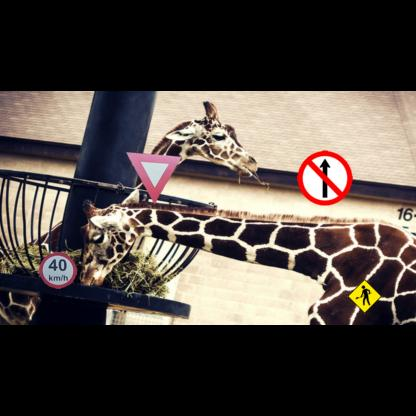A-24: (347, 279, 382, 314)
R-19: (39, 252, 77, 289)
R-2: (126, 152, 181, 204)
R-3: (297, 151, 353, 205)
